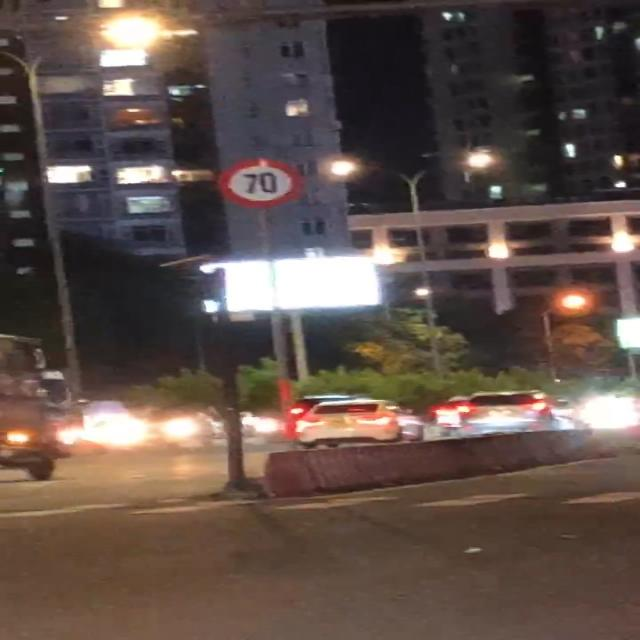Bien bao toc do toi da cho phep: (208, 155, 303, 208)
